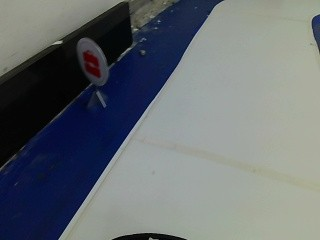company: (73, 31, 109, 88)
